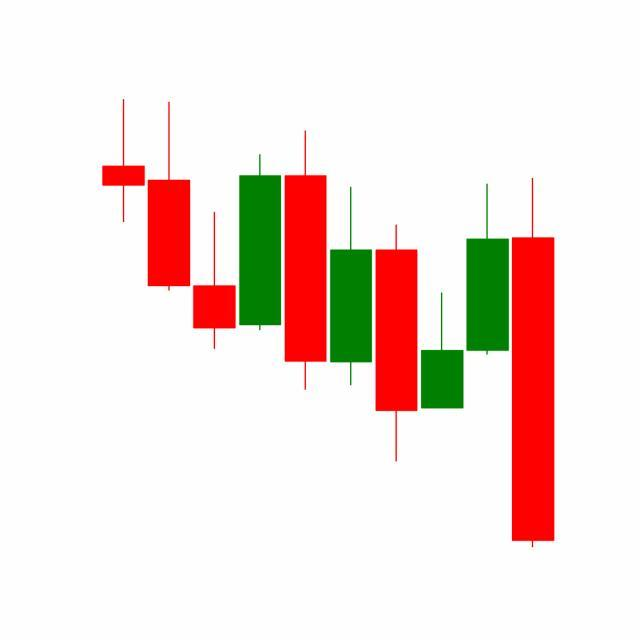Hikkake Pattern: (283, 127, 512, 466)
